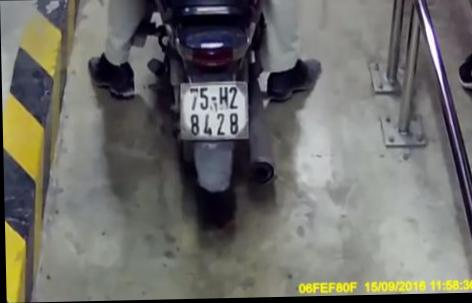LP: (178, 81, 249, 141)
